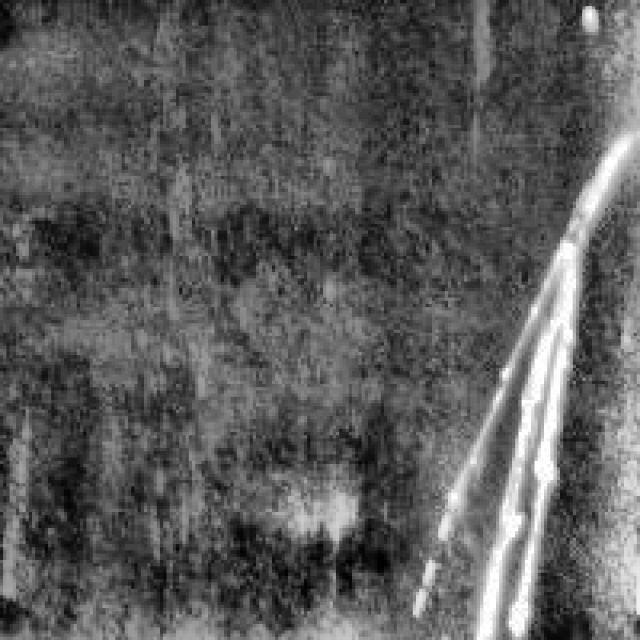Inclusion: (444, 124, 630, 634)
